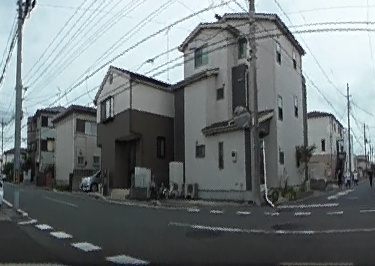person: (366, 168, 375, 186), (352, 167, 359, 185), (344, 167, 350, 186)
